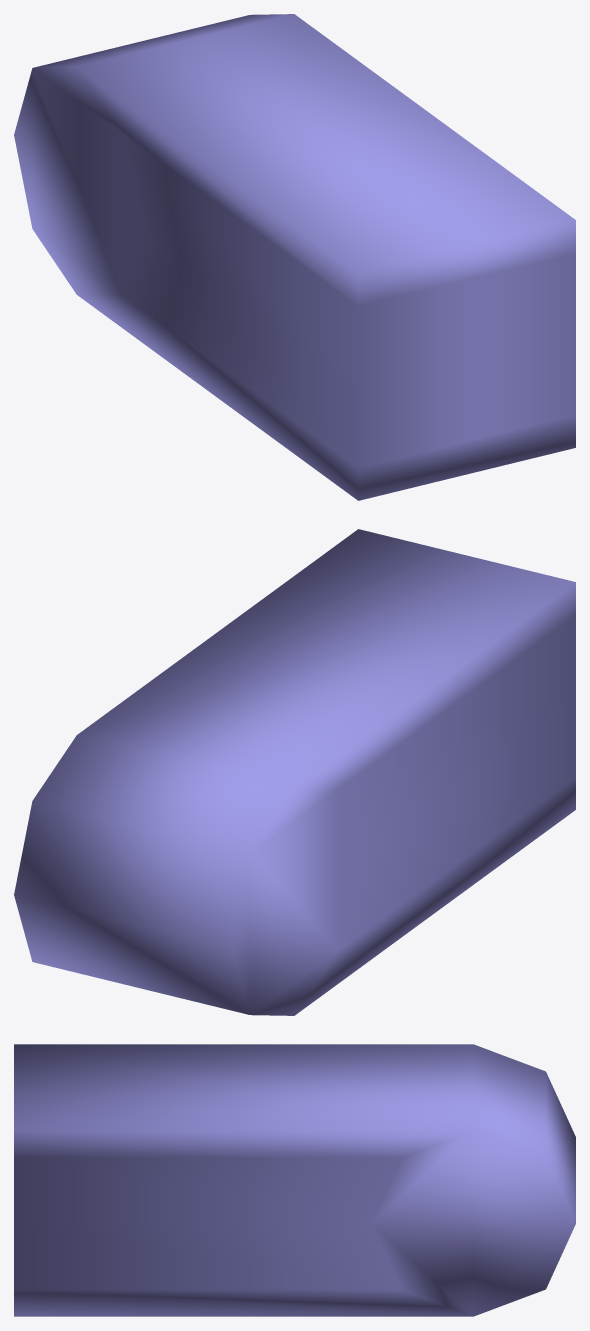
File: light_switch_piece.glb
3 views of the same model, one above another, from view 1: azimuth 30°, elevation 25°; view 2: azimuth 150°, elevation 25°; view 3: azimuth 270°, elevation 25° (orthographic). The views are drawn at different scales.
Visible parts, largest first — view 1: Cylinder; view 2: Cylinder; view 3: Cylinder.
Boxes of the visible parts, box(x1,y1,x2,y2) form: Cylinder: box(14, 14, 575, 500); Cylinder: box(14, 529, 575, 1015); Cylinder: box(14, 1044, 575, 1316).
Bounding box in the file's own units: 0.02 × 0.02 × 0.0548.
